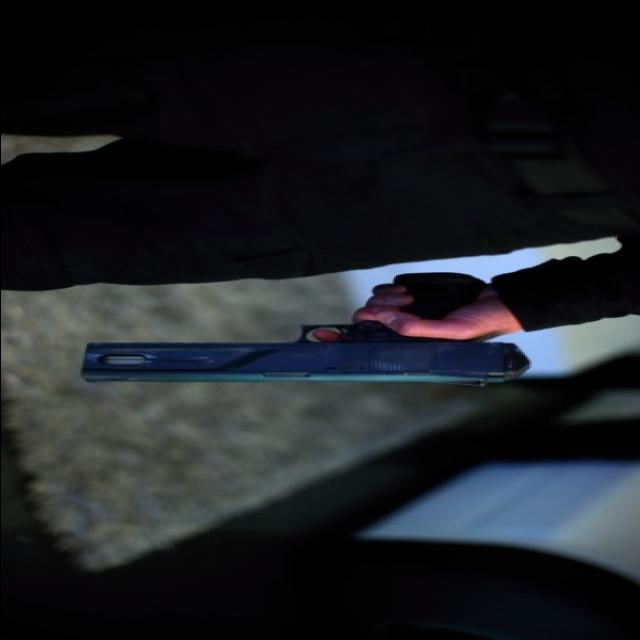weapons: (44, 244, 586, 406)
